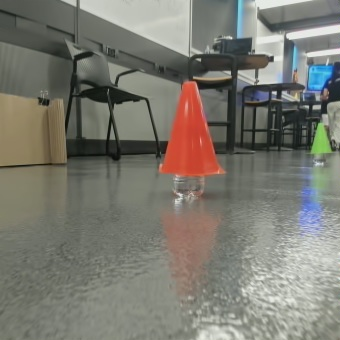Cone: (161, 79, 218, 172)
